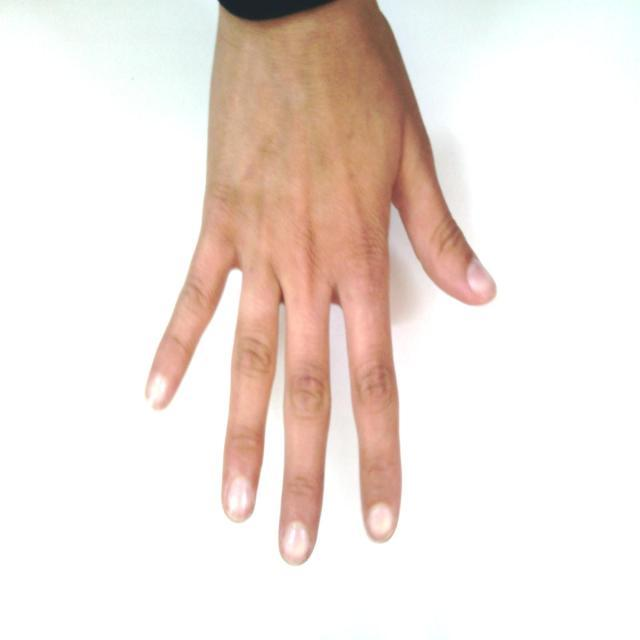Fingernail: (282, 523, 309, 564), (227, 478, 251, 520), (468, 260, 495, 296), (368, 504, 392, 538), (148, 378, 167, 408)
